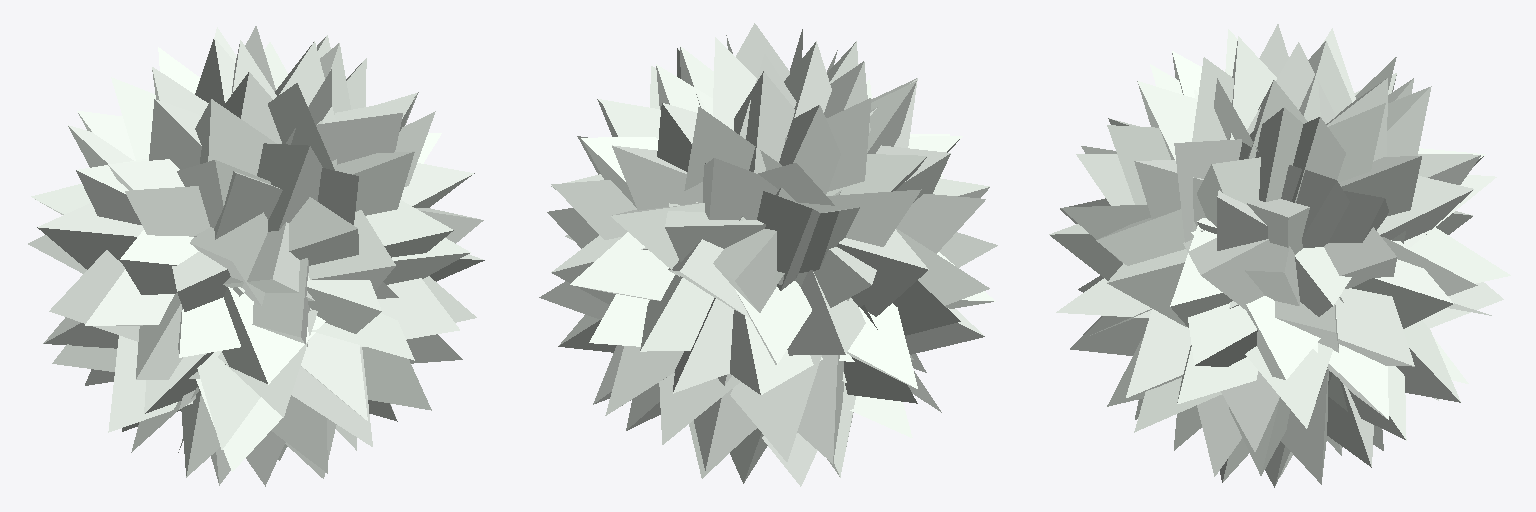
3 renders of one model, left to right at view 1: azimuth 30°, elevation 25°; view 2: azimuth 150°, elevation 25°; view 3: azimuth 270°, elevation 25°, orthographic.
Parts seen in each view (by area): view 1: 球; view 2: 球; view 3: 球.
Boxes of the visible parts, x1,y1,x2,y2 form: 球: [28, 26, 484, 486]; 球: [539, 23, 997, 486]; 球: [1049, 24, 1510, 487].
Size of the model in its own units: 3.91 by 3.94 by 3.91.
Materials: 2 (1 with a texture image).